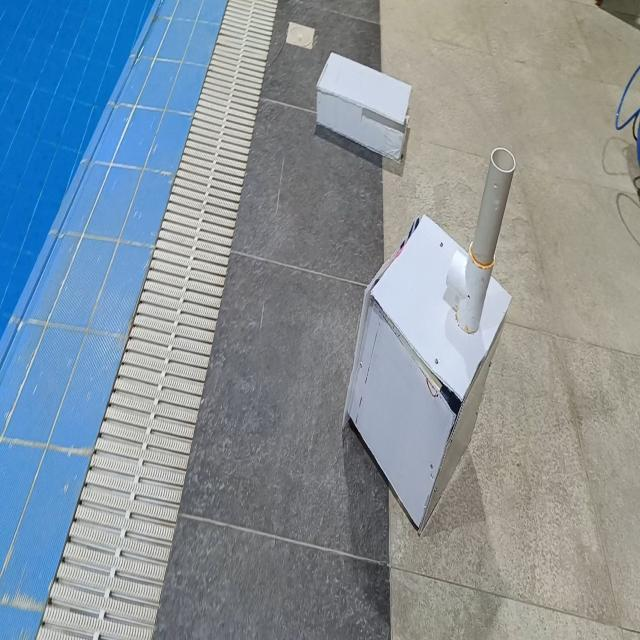Cube: (342, 211, 512, 536)
Cuboid: (315, 50, 412, 162)
